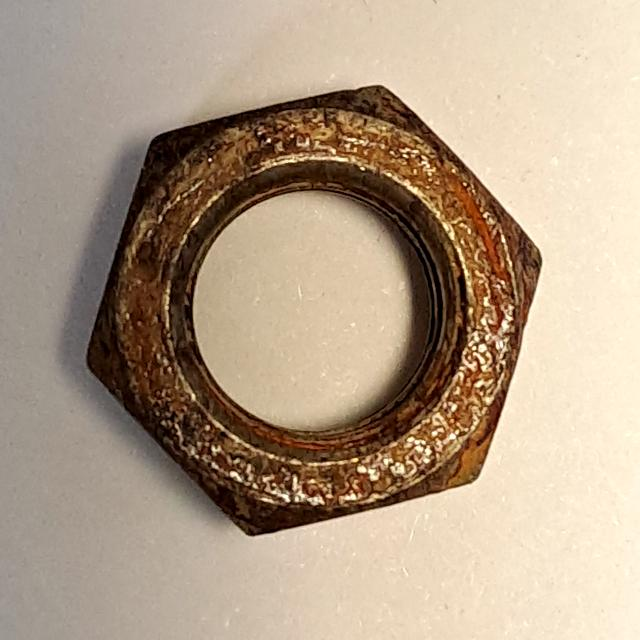Rust: (77, 75, 553, 549)
